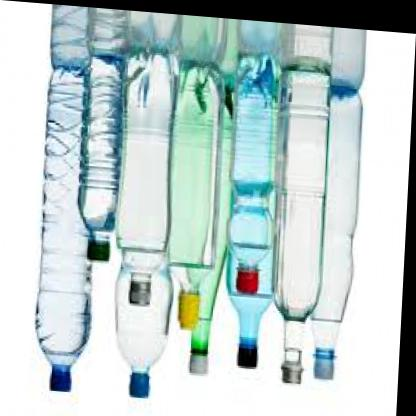Plastic: (218, 50, 288, 400), (30, 58, 100, 404), (161, 38, 233, 334), (106, 40, 186, 304), (320, 73, 376, 385), (73, 37, 128, 264), (113, 278, 180, 400), (180, 259, 228, 394)
